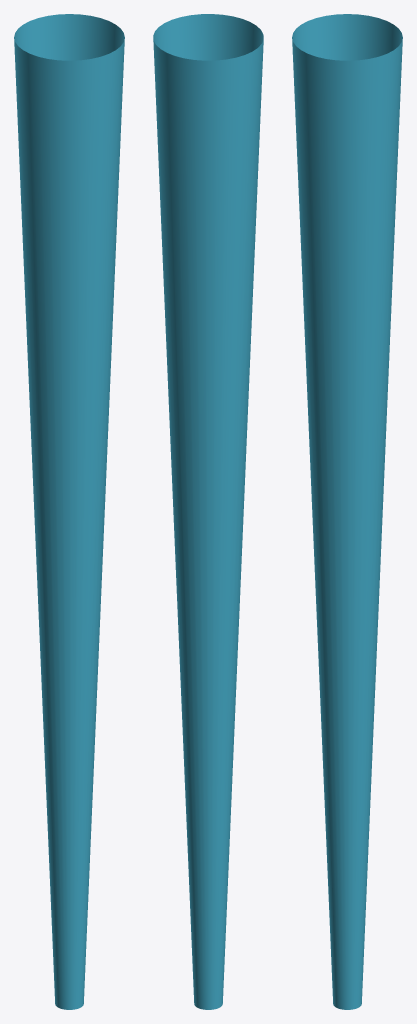
File: LightShaft.fbx
3 views of the same model, side by side, from view 1: azimuth 90°, elevation 25°; view 2: azimuth 210°, elevation 25°; view 3: azimuth 270°, elevation 25° (orthographic).
Visible parts, largest first — view 1: Cylinder.001; view 2: Cylinder.001; view 3: Cylinder.001.
Part boxes in pixels (left/top/right/bottom): Cylinder.001: left=14, top=14, right=124, bottom=1009; Cylinder.001: left=153, top=14, right=263, bottom=1009; Cylinder.001: left=292, top=14, right=402, bottom=1009.
Bounding box in the file's own units: 17.49 × 168 × 17.49.
